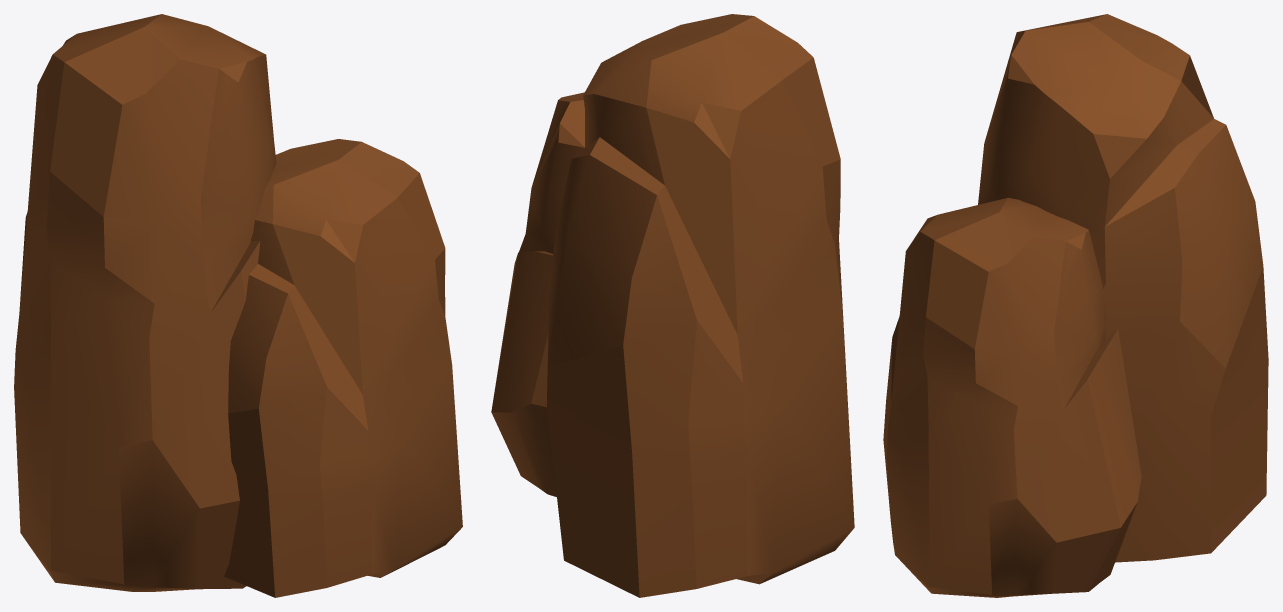
Rendered from Rock Large-d2VWOdthtR.glb.
3 views of the same model, side by side, from view 1: azimuth 30°, elevation 25°; view 2: azimuth 150°, elevation 25°; view 3: azimuth 270°, elevation 25° (orthographic). The views are drawn at different scales.
Parts seen in each view (by area): view 1: Rock_Large_3; view 2: Rock_Large_3; view 3: Rock_Large_3.
Boxes of the visible parts, left/top/right/bottom form: Rock_Large_3: left=14, top=14, right=462, bottom=597; Rock_Large_3: left=491, top=14, right=854, bottom=597; Rock_Large_3: left=883, top=14, right=1268, bottom=597.
Bounding box in the file's own units: 5.31 × 7.43 × 5.19.
Materials: 1 (1 with a texture image).
